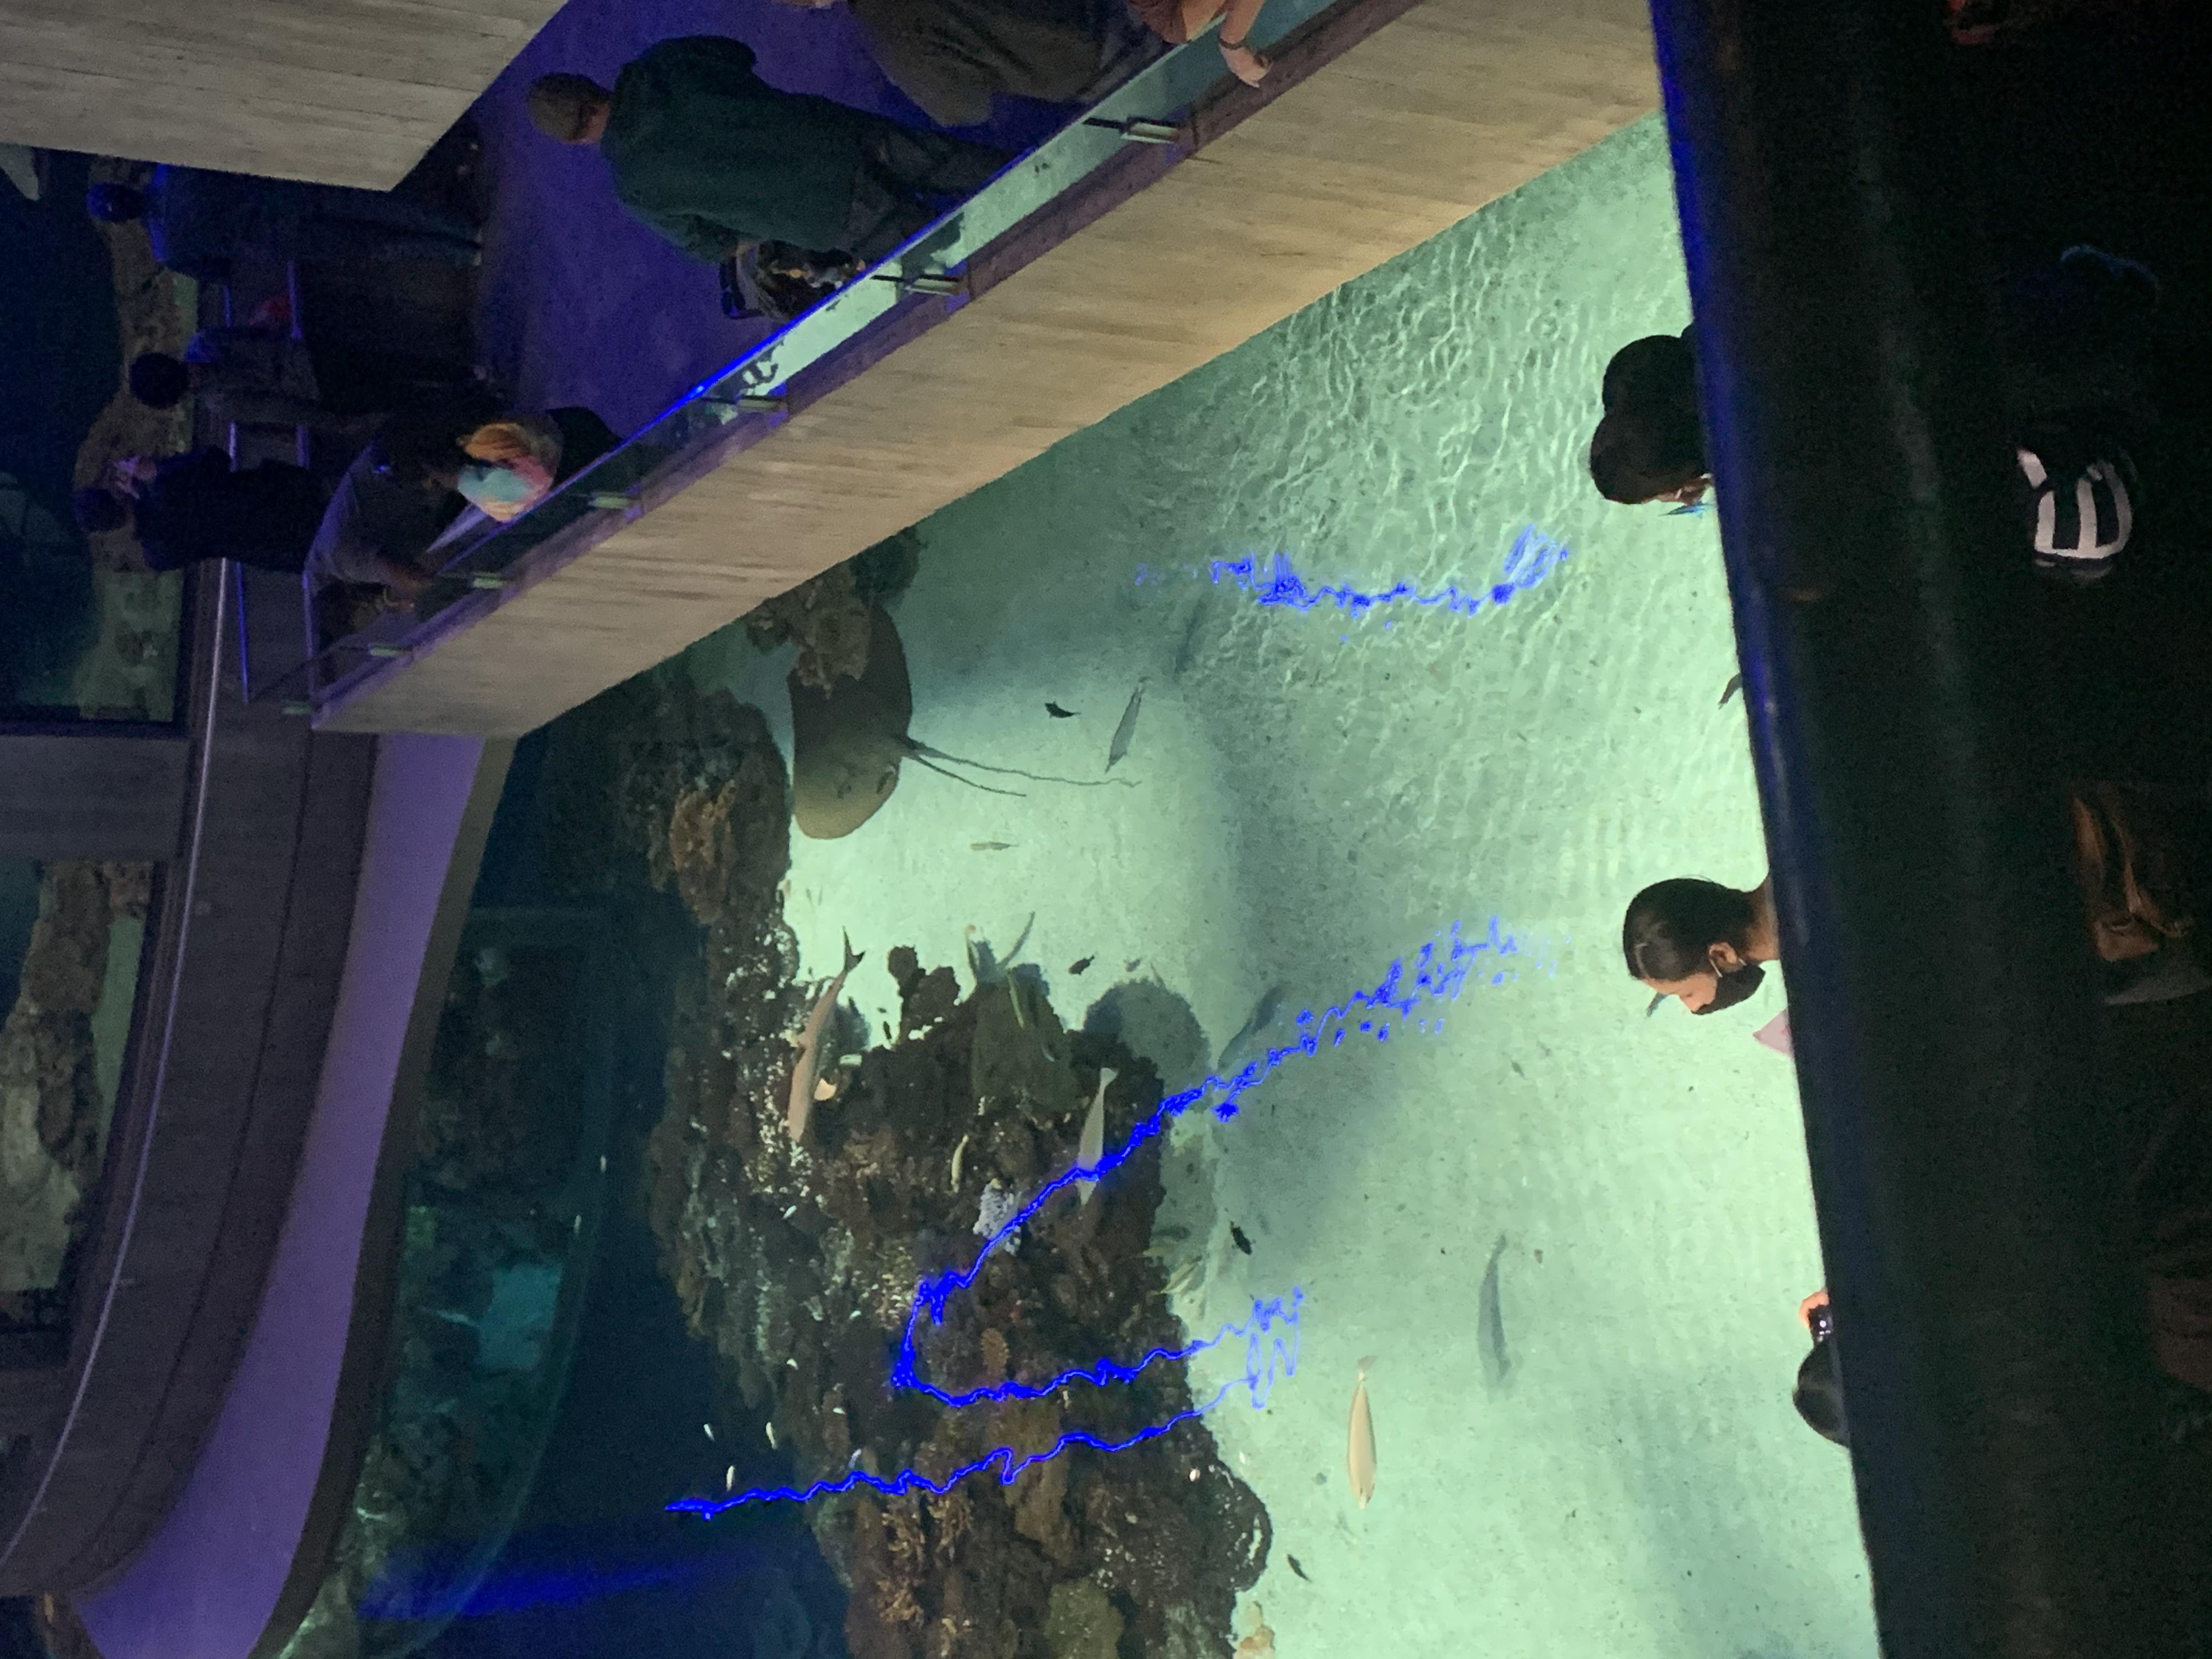fish: (1068, 1061, 1125, 1213), (1343, 1349, 1383, 1518), (1477, 1230, 1512, 1403), (1101, 671, 1151, 777), (1146, 1251, 1212, 1300), (948, 1127, 972, 1199), (1003, 967, 1029, 1032), (1221, 1220, 1259, 1260), (1040, 699, 1085, 727), (1282, 1554, 1318, 1588), (1068, 950, 1101, 979), (721, 1460, 742, 1497), (765, 1417, 780, 1455), (702, 1420, 719, 1448), (782, 1358, 805, 1377), (570, 1213, 582, 1244), (829, 1403, 848, 1420), (597, 1154, 606, 1176)
shark: (777, 929, 867, 1145)
stingray: (787, 599, 911, 840)
